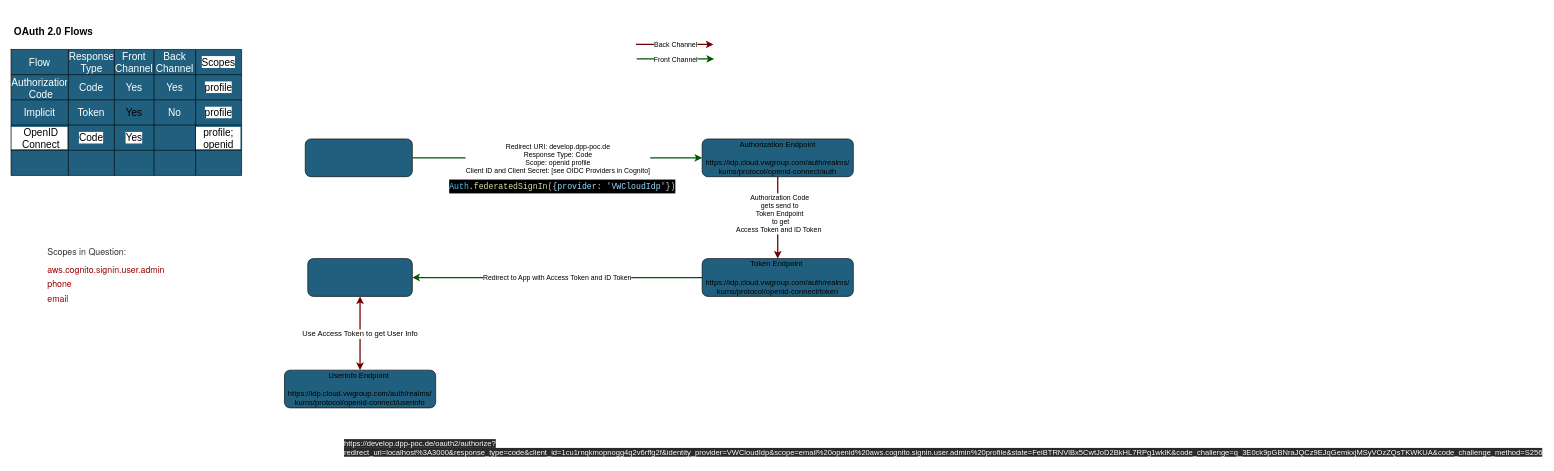
Image size: 1554x471. Some labels were removed from this diagram. The shapes that lost their labels are listed below. From the top down, each one's centre as x and y in pixels, then its label:
the point at 358,157: Client https://develop.dpp-poc.de/
the point at 359,277: Redirect URI develop.dpp-poc.de/ oauth2/authorize?...
